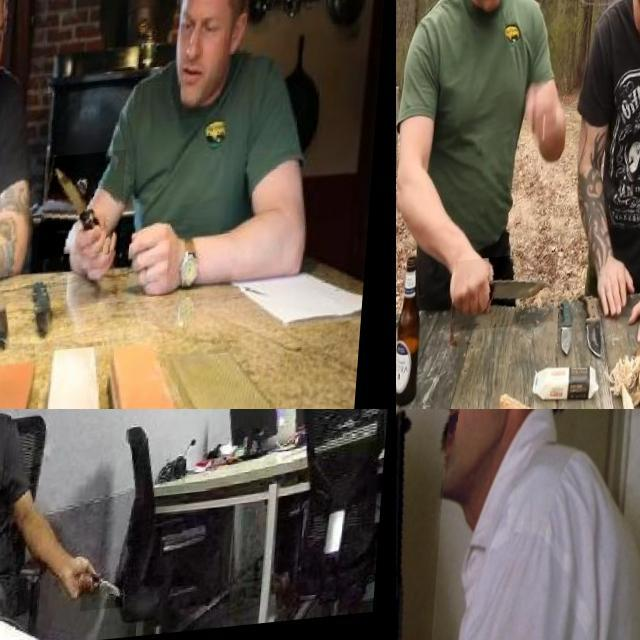-: (43, 158, 131, 267), (459, 258, 565, 338), (90, 580, 134, 618)
gun-knife-thesis - v11 Yolov5 augmented: (396, 409, 457, 640)
